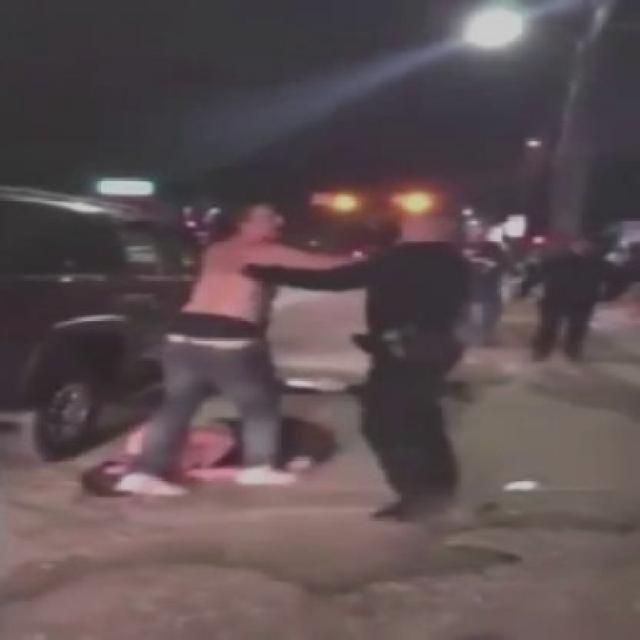fight: (114, 184, 481, 506)
non-fight: (511, 210, 623, 364)
